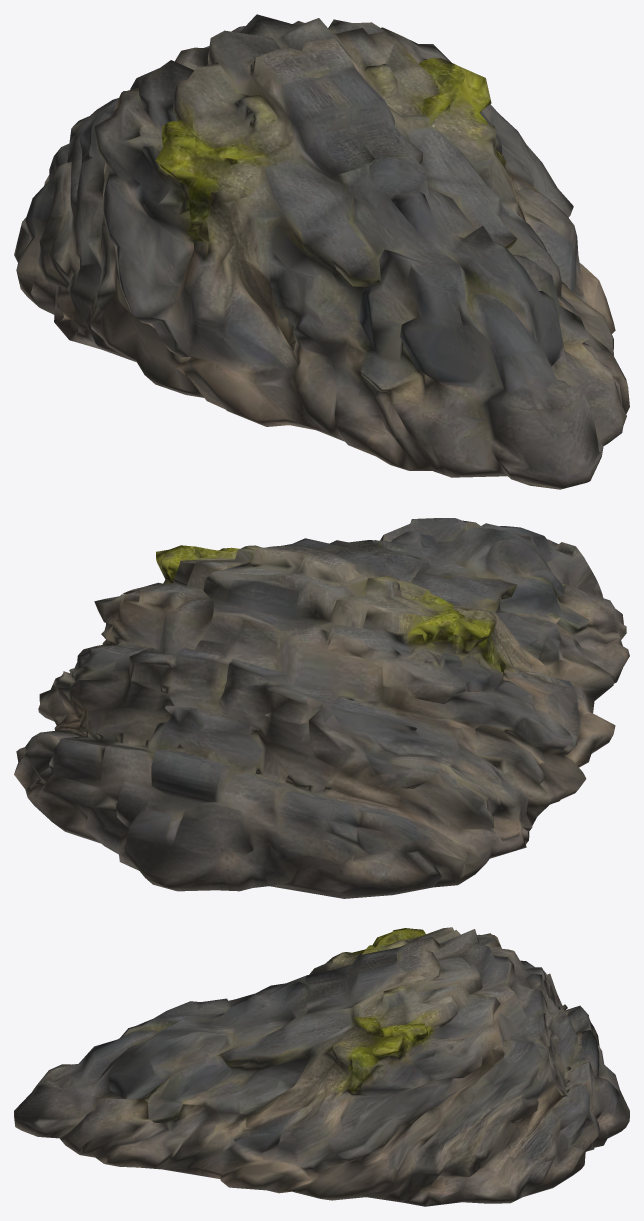
Rendered from kf-rock-a.glb.
3 views of the same model, one above another, from view 1: azimuth 30°, elevation 25°; view 2: azimuth 150°, elevation 25°; view 3: azimuth 270°, elevation 25° (orthographic). The views are drawn at different scales.
Visible parts, largest first — view 1: Supplied kf-rock-a; view 2: Supplied kf-rock-a; view 3: Supplied kf-rock-a.
Part boxes in pixels (x1,y1,x2,y2): Supplied kf-rock-a: [14, 14, 629, 489]; Supplied kf-rock-a: [14, 518, 629, 898]; Supplied kf-rock-a: [14, 927, 629, 1206].
Bounding box in the file's own units: 0.6441 × 0.3246 × 1.
1 material, 1 textured.
